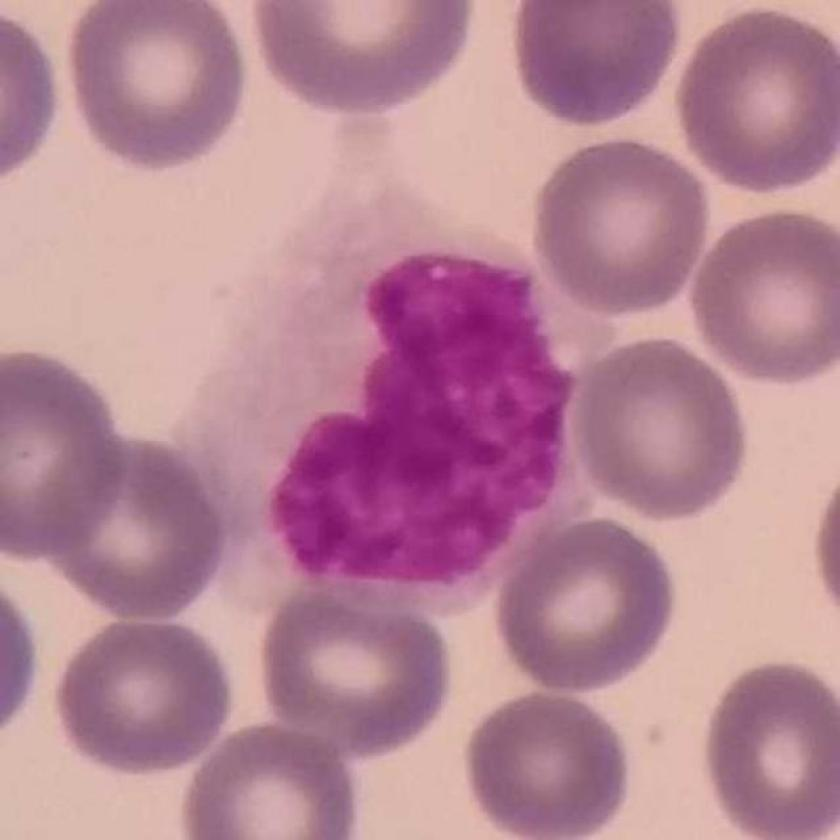monocyte: (165, 171, 622, 620)
